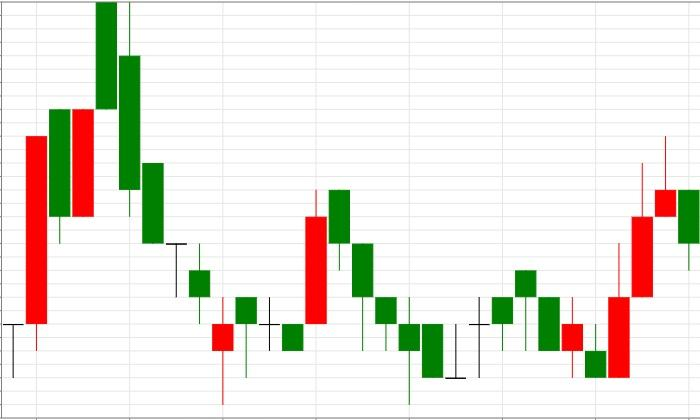bullish_engulfing_rise: (516, 243, 630, 378)
hanging_man_fall: (423, 269, 536, 379)
three_black_crows_fall: (236, 189, 397, 378)
